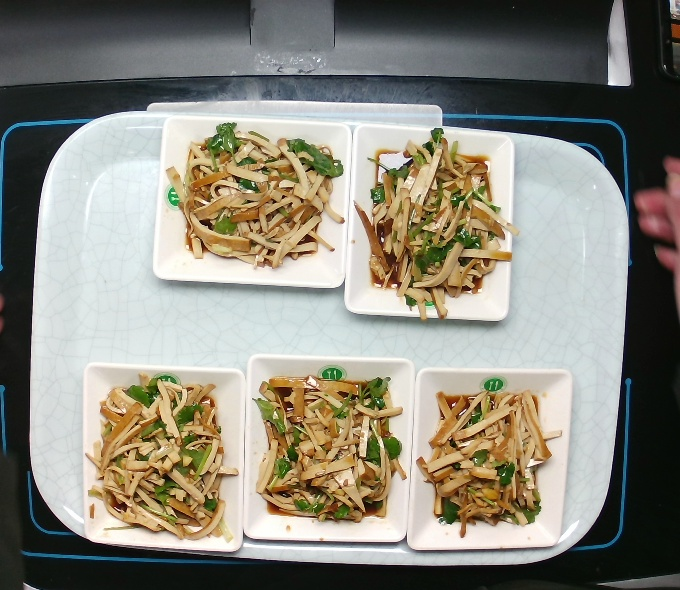wcq-LiangBanDouGan: (350, 126, 519, 324), (242, 357, 412, 535), (165, 113, 351, 270), (86, 367, 247, 542), (415, 376, 564, 540)
